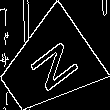N_SW: (17, 35, 78, 97)
